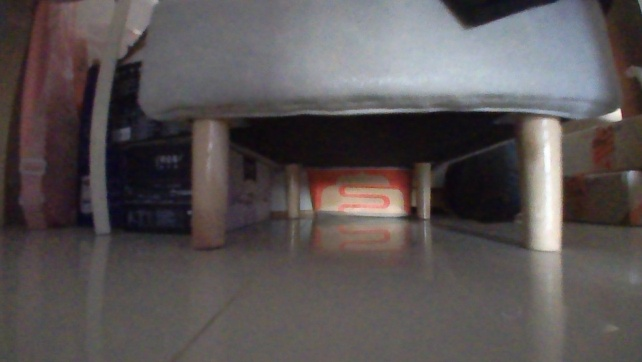sofe1: (133, 0, 620, 256)
